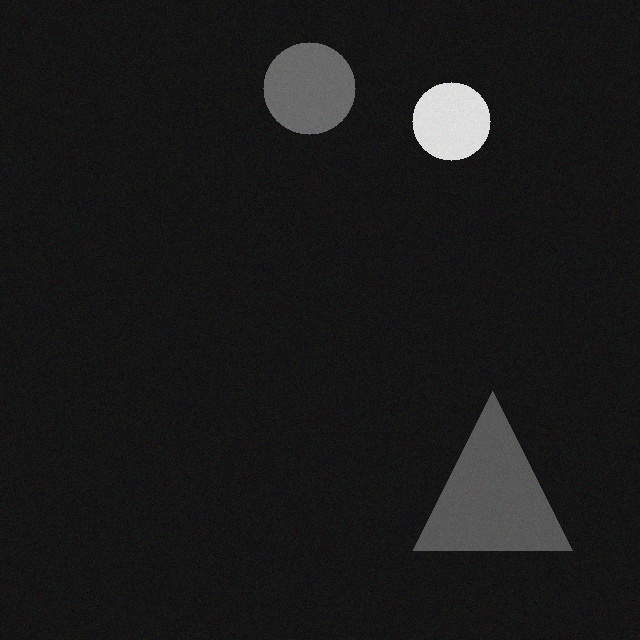circle: (277, 42, 369, 134), (426, 82, 504, 160)
triangle: (427, 391, 586, 550)
